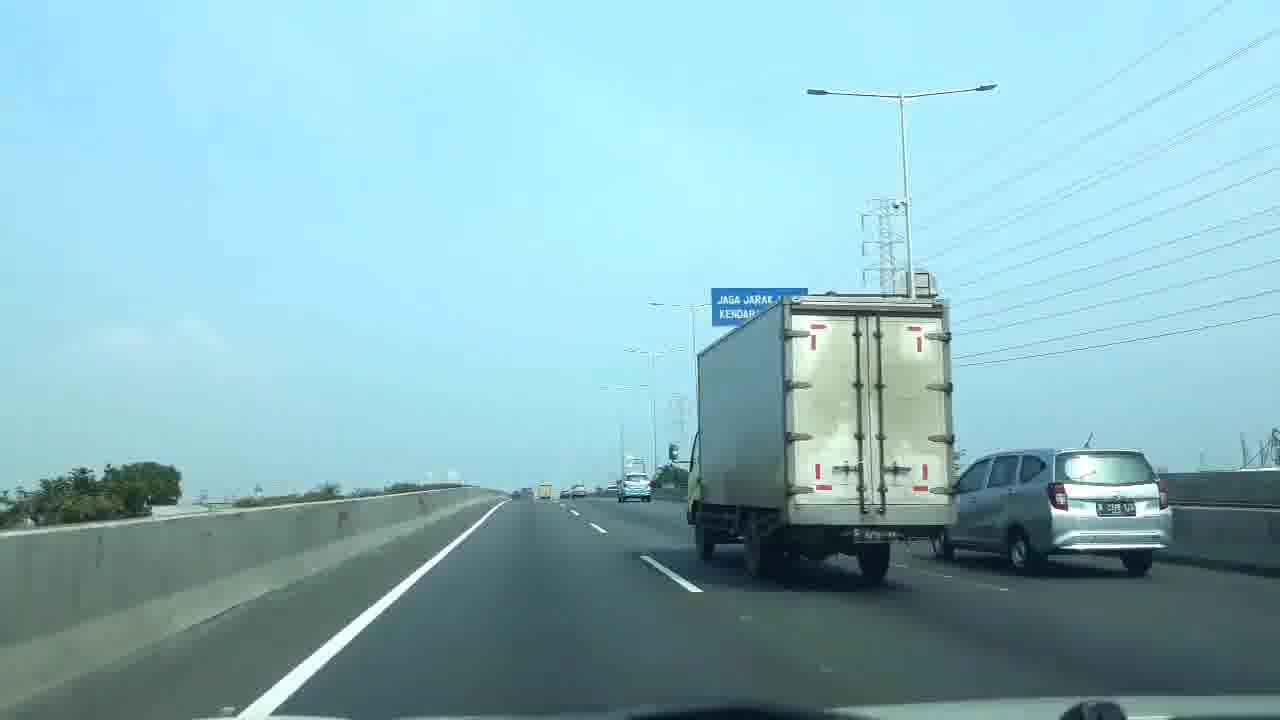plate_positive: (851, 526, 899, 543), (1096, 501, 1137, 517)
